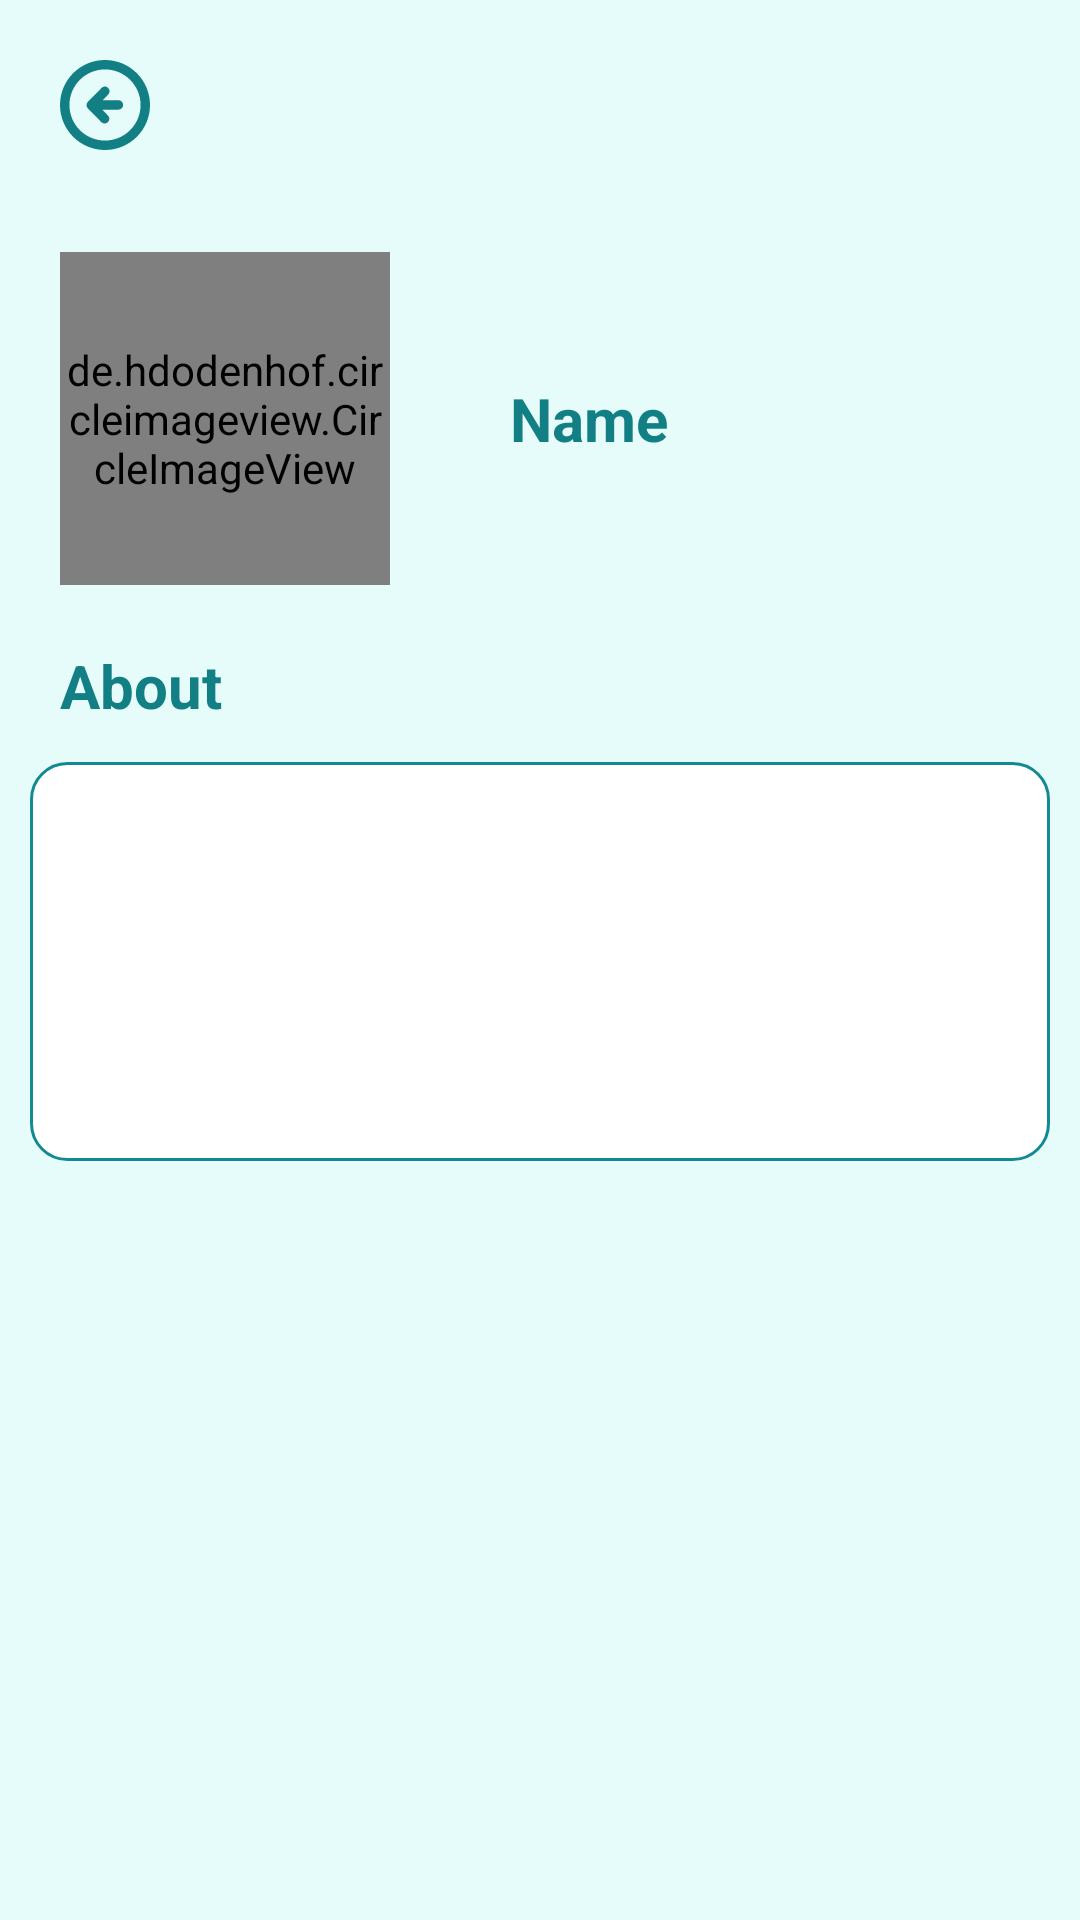

Named icons in this screenshot (1080 × 1920) and their centers, point (x, y):
back: point (105, 105)
